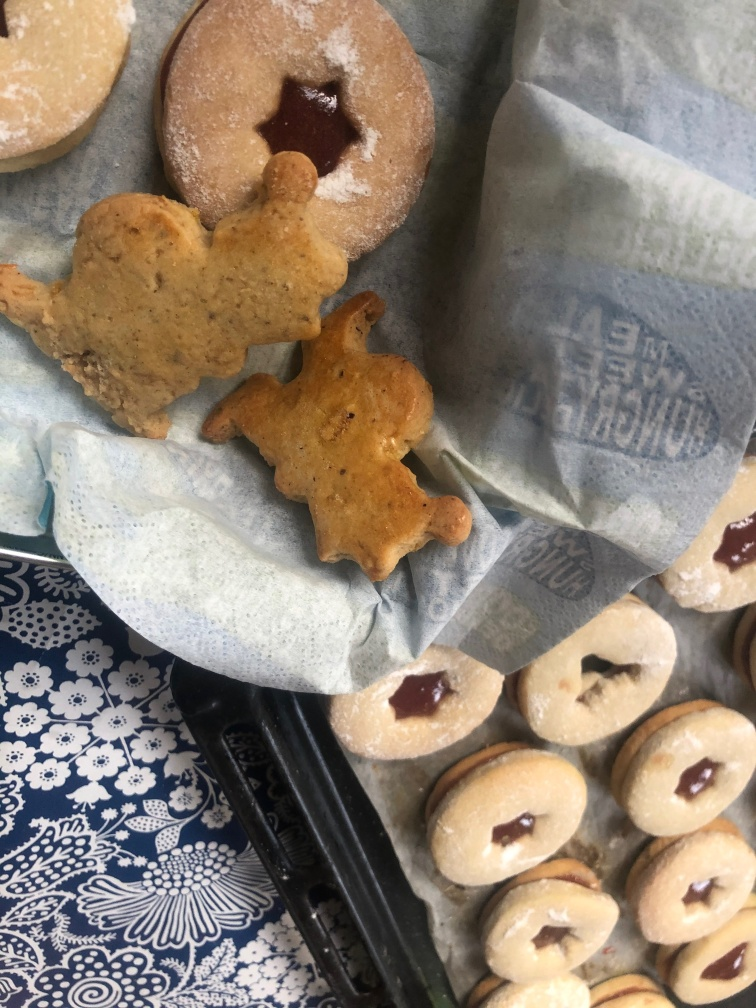christmas shortbread with jam: (162, 1, 428, 239), (522, 593, 683, 750), (433, 743, 588, 883), (334, 650, 504, 754), (626, 704, 755, 834), (657, 450, 756, 614), (633, 828, 756, 949), (486, 862, 618, 971), (673, 907, 756, 1006)
santa claus: (5, 156, 329, 436), (205, 284, 483, 577)
